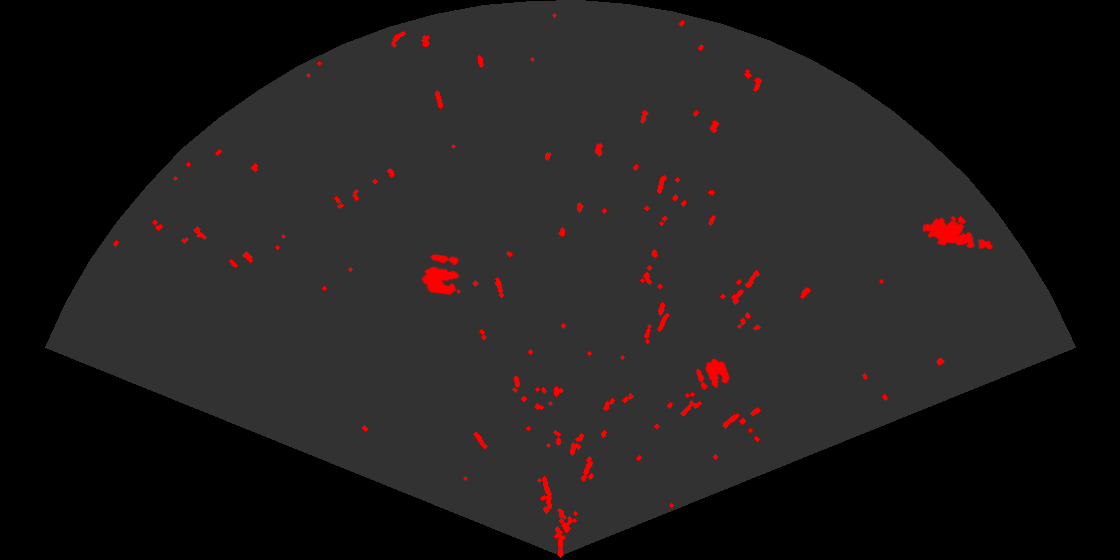ball: (420, 253, 462, 297), (694, 357, 731, 392)
frogman: (923, 214, 995, 251)
